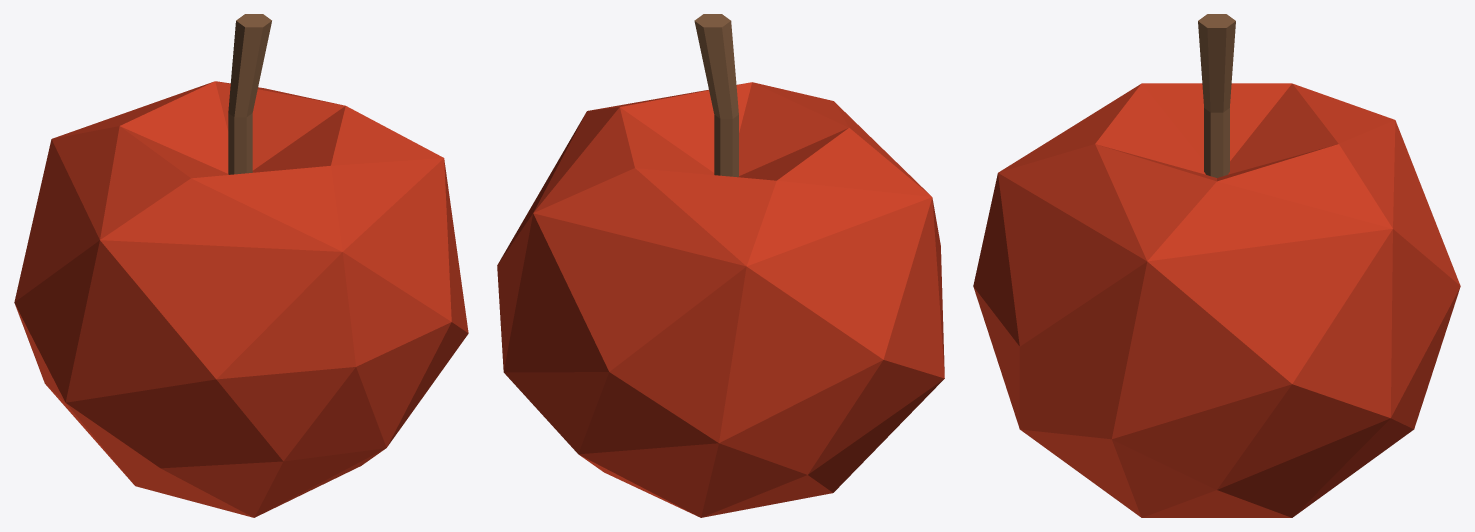
File: Mesh_Plants_Apple_02.FBX
3 renders of one model, left to right at view 1: azimuth 30°, elevation 25°; view 2: azimuth 150°, elevation 25°; view 3: azimuth 270°, elevation 25°, orthographic. The views are drawn at different scales.
Visible parts, largest first — view 1: Mesh_Plants_Apple_02; view 2: Mesh_Plants_Apple_02; view 3: Mesh_Plants_Apple_02.
Part boxes in pixels (x1,y1,x2,y2): Mesh_Plants_Apple_02: (14,14,468,517); Mesh_Plants_Apple_02: (497,14,944,517); Mesh_Plants_Apple_02: (973,14,1460,517).
Size of the model in its own units: 6.21 by 7.18 by 6.45.
